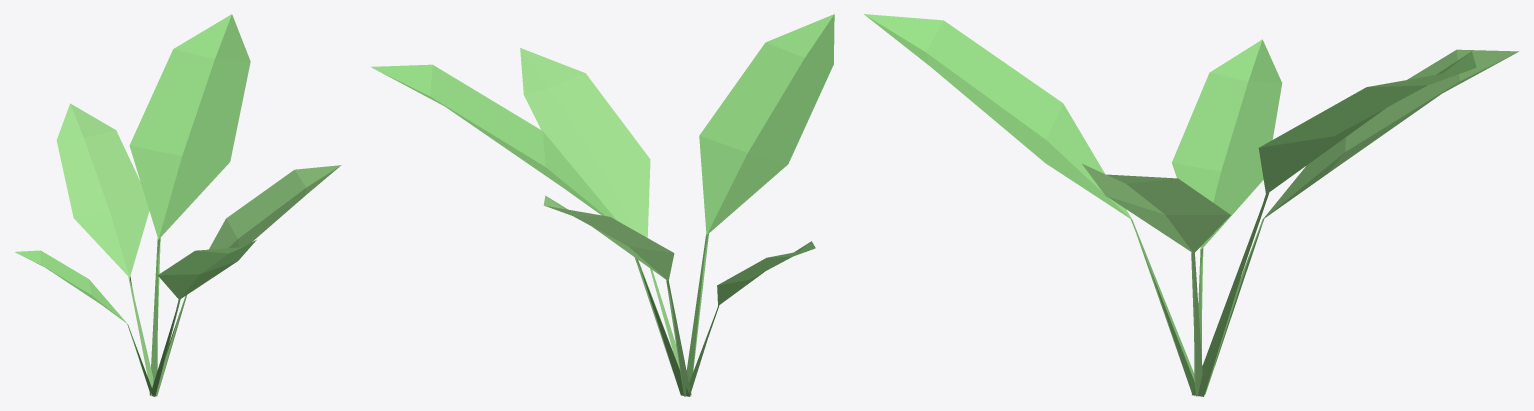
File: Plant_j_OneS_10.fbx
3 renders of one model, left to right at view 1: azimuth 30°, elevation 25°; view 2: azimuth 150°, elevation 25°; view 3: azimuth 270°, elevation 25°, orthographic. The views are drawn at different scales.
Parts seen in each view (by area): view 1: Plant_j_OneS_10; view 2: Plant_j_OneS_10; view 3: Plant_j_OneS_10.
Part boxes in pixels (bbox=[...]): Plant_j_OneS_10: bbox=[15, 14, 341, 396]; Plant_j_OneS_10: bbox=[371, 14, 834, 396]; Plant_j_OneS_10: bbox=[864, 14, 1518, 396].
Bounding box in the file's own units: 31.73 × 29.89 × 38.92.
